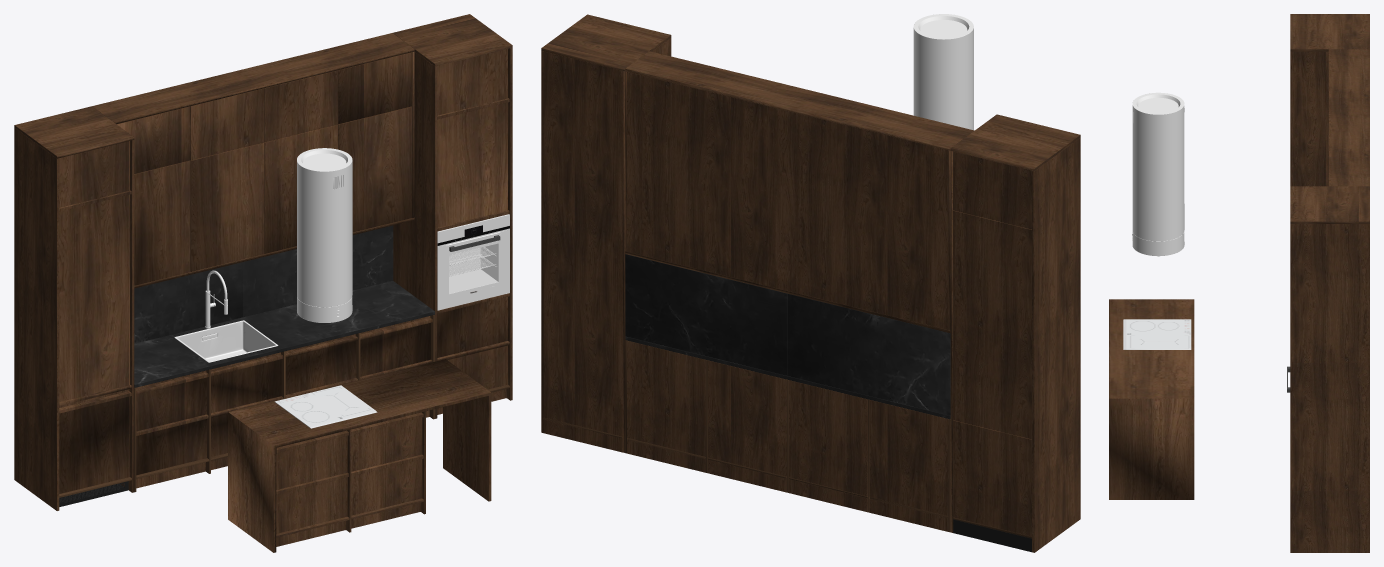
The model's file is kitchen-2-lite.glb.
3 views of the same model, side by side, from view 1: azimuth 30°, elevation 25°; view 2: azimuth 150°, elevation 25°; view 3: azimuth 270°, elevation 25° (orthographic). The views are drawn at different scales.
Parts seen in each view (by area): view 1: Kitchen cabinet; view 2: Kitchen cabinet; view 3: Kitchen cabinet.
Part boxes in pixels (x1,y1,x2,y2): Kitchen cabinet: (14,14,512,552); Kitchen cabinet: (541,14,1080,552); Kitchen cabinet: (1109,14,1369,552).
Bounding box in the file's own units: 3.76 × 2.81 × 2.
Materials: 14 (13 with a texture image).
